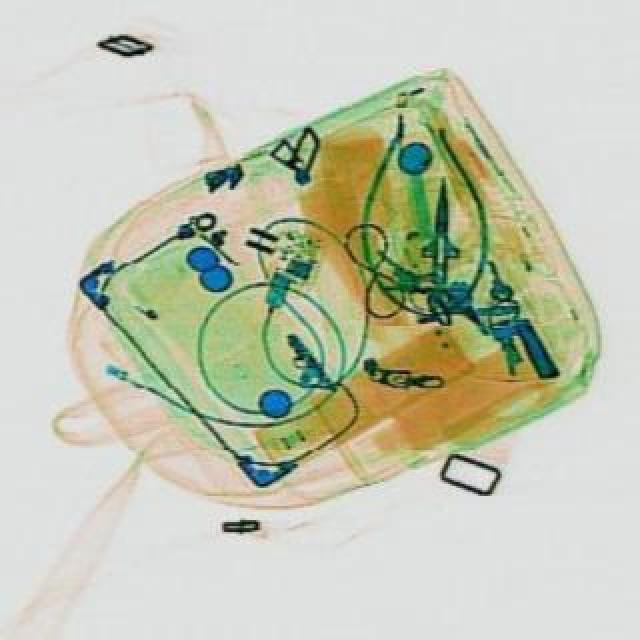knife: (418, 174, 462, 280)
